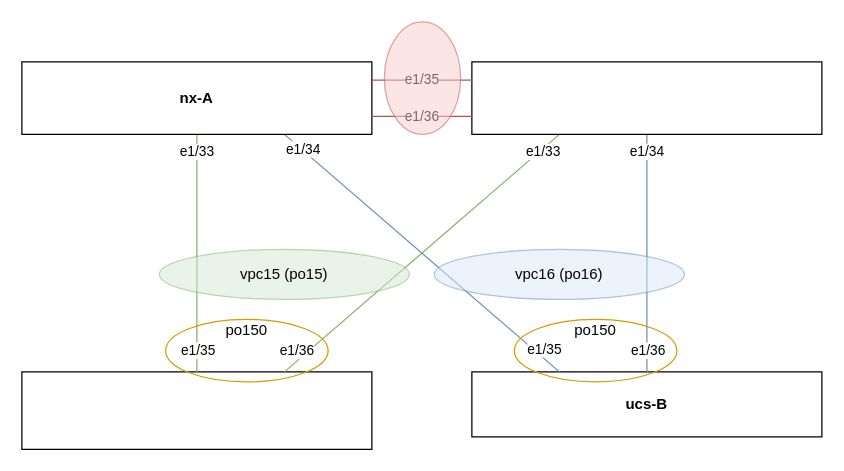
This 844x471 diagram has some shape labels left out. The box of each missing label's shape, as (x1, y1, x2, y2) in pixels:
nx-B: (471, 61, 822, 134)
po10 peer-link: (383, 21, 461, 134)
ucs-A: (21, 371, 372, 449)
